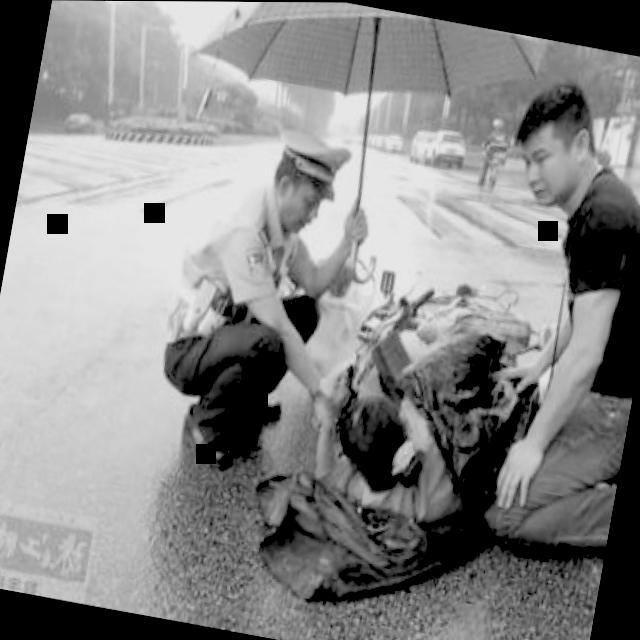Fall-Detected: (300, 272, 584, 550)
